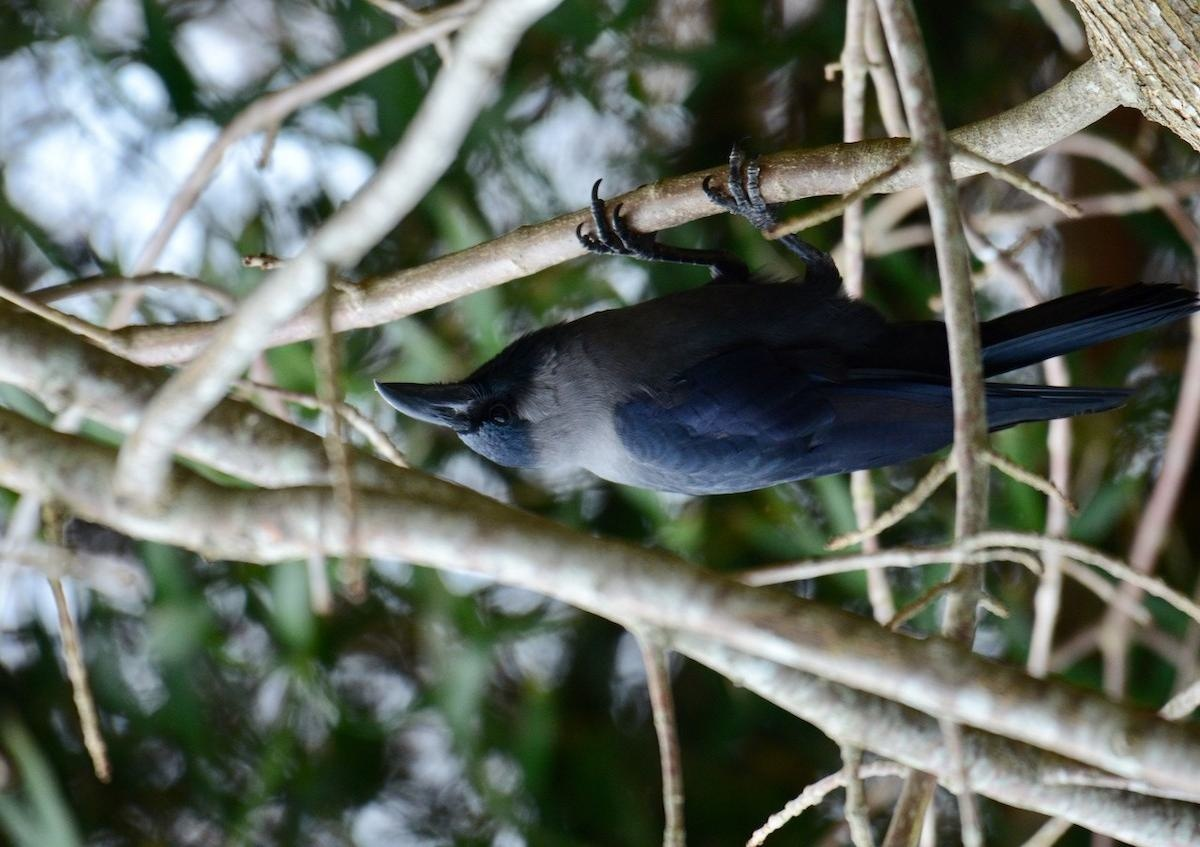crow: (383, 170, 1173, 522)
